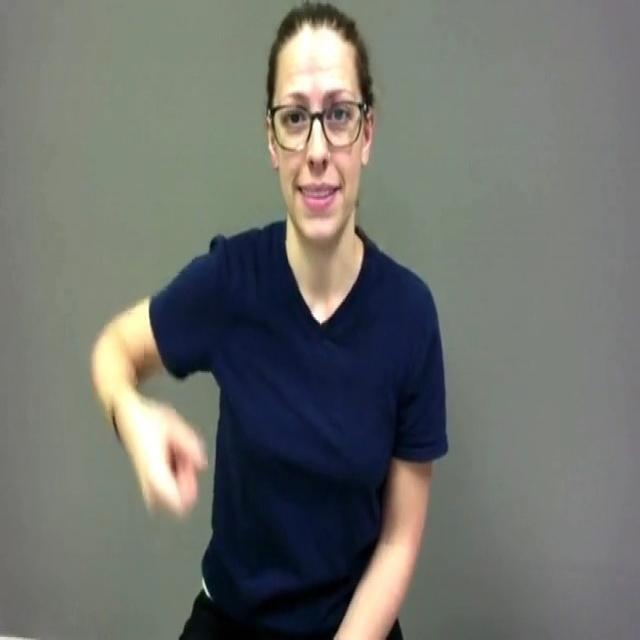bag: (121, 390, 216, 530)
